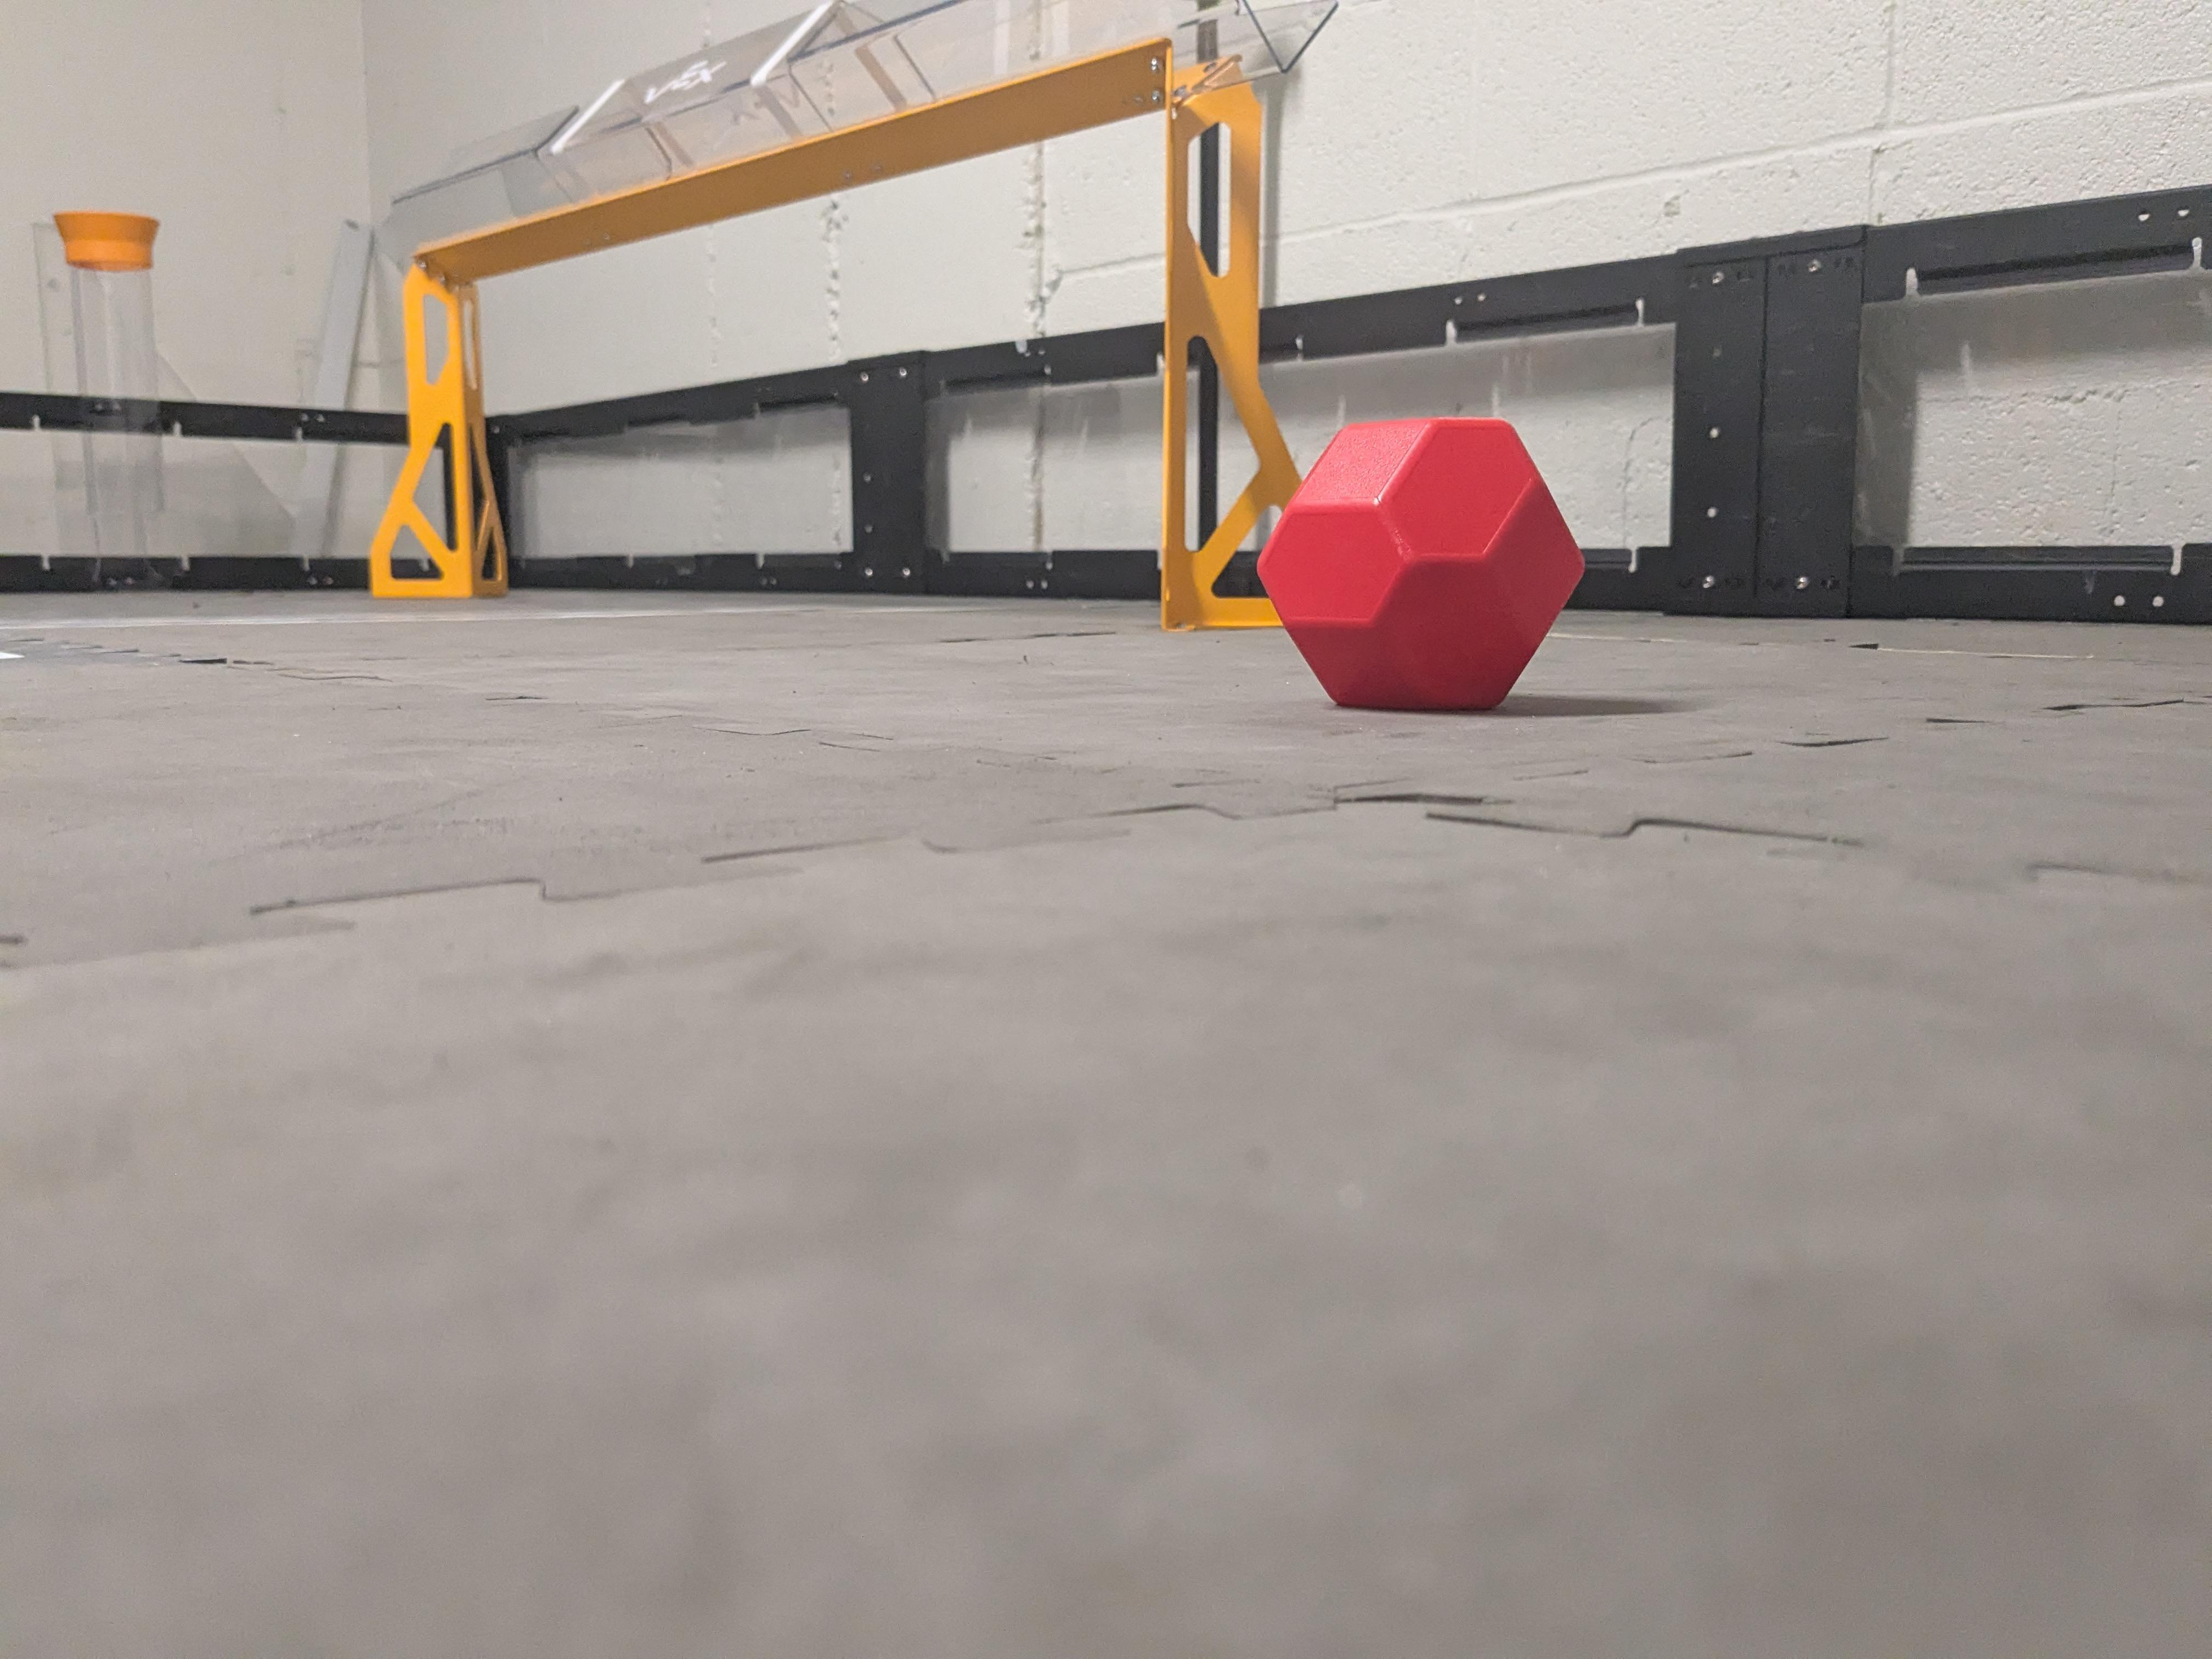Vex-Pieces-RED: (1258, 420, 1583, 708)
